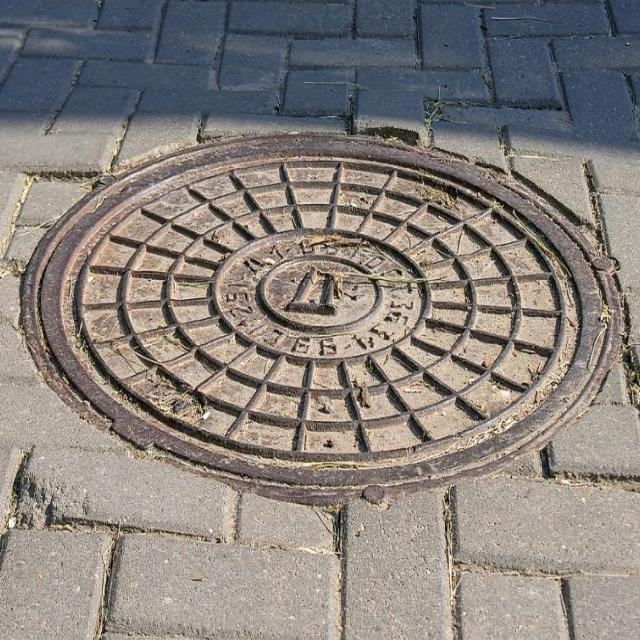manhole: (20, 134, 628, 517)
